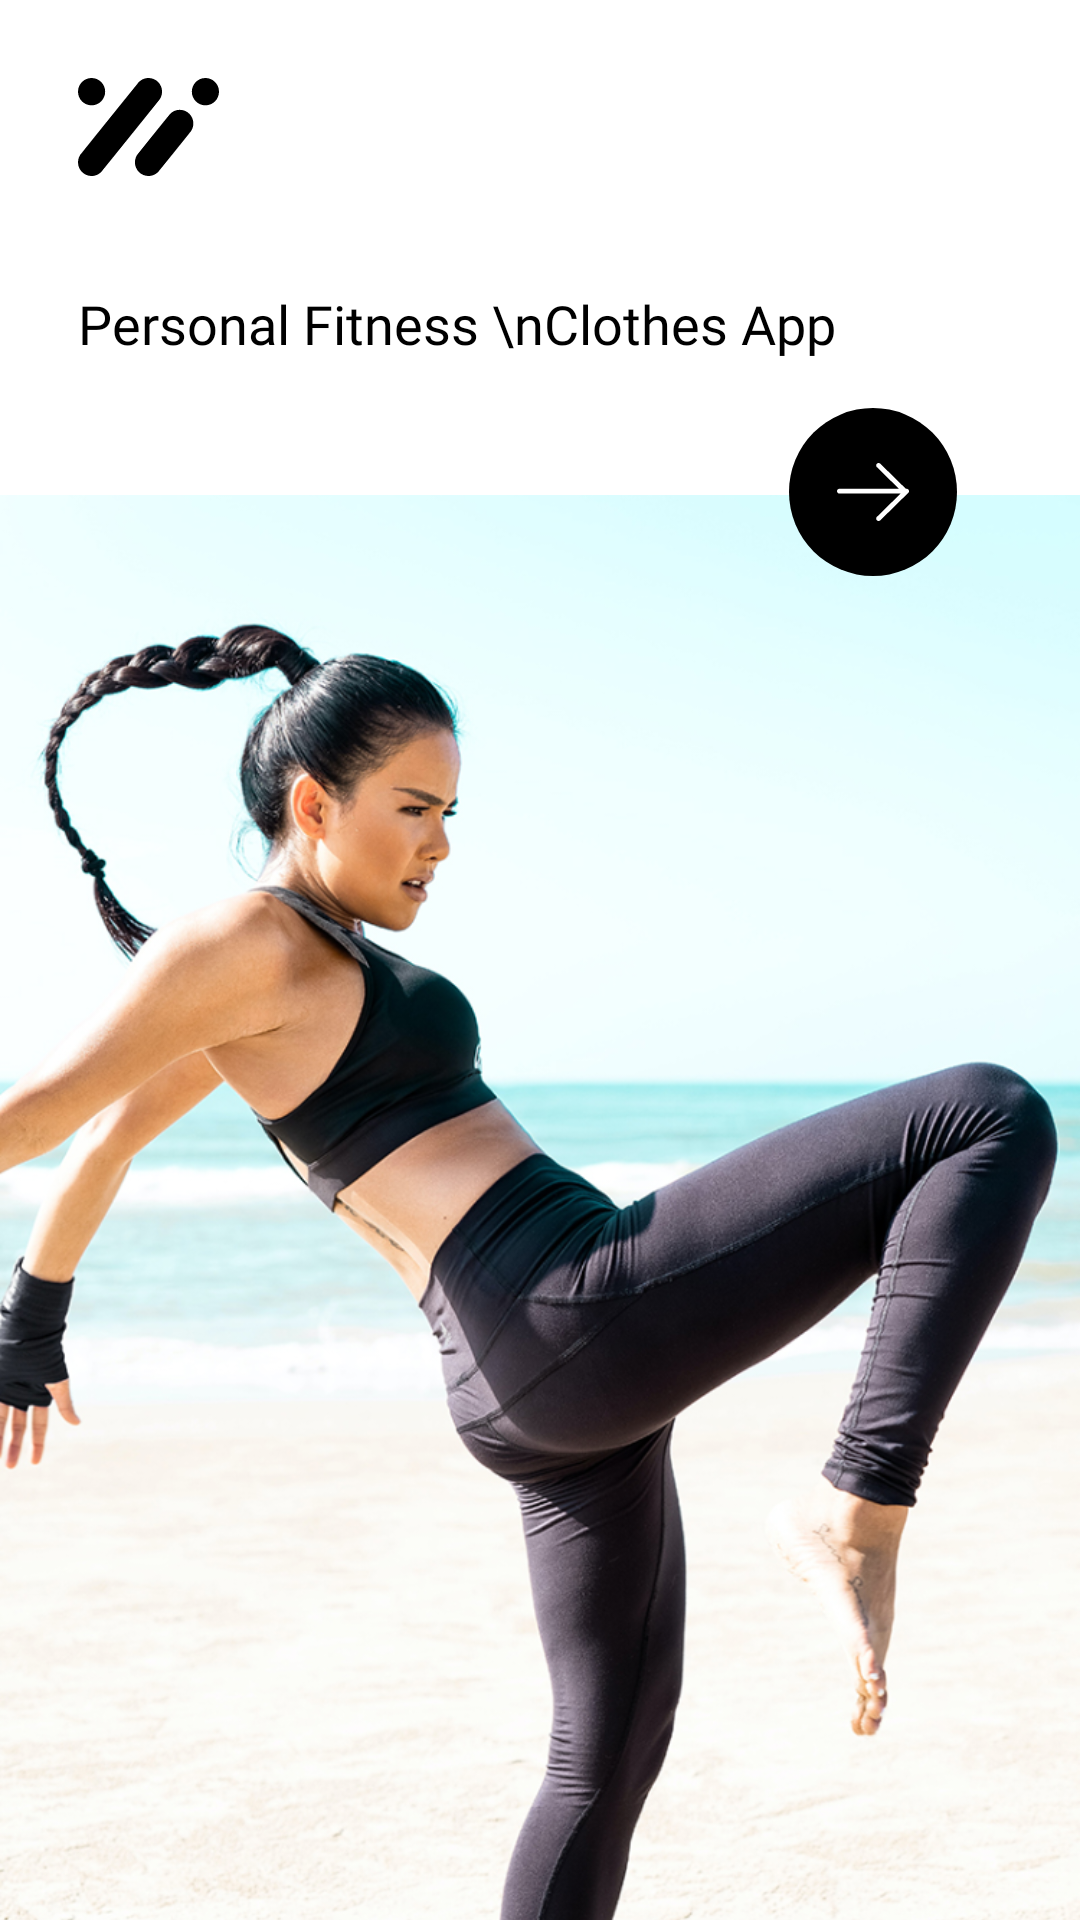

Where icons sit on this 1080px x 1920px app screen, as [x1,y1,x2,y2]:
arrow right: [837,463,909,521]
